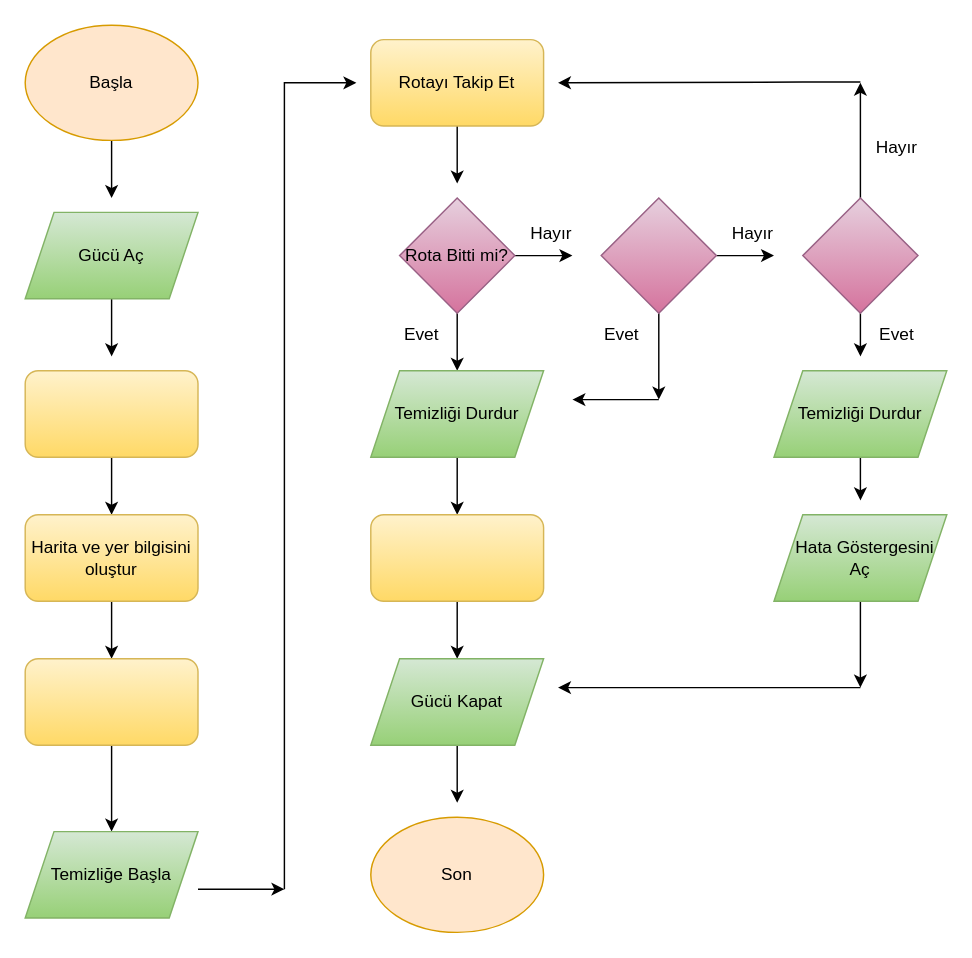
Image size: 972x958. Some labels were removed from this diagram. The centre of each missing label's shape, as x and y in pixels:
Etrafı Tara: the point at 111,413
Hazne Dolu mu?: the point at 859,255
Yolu Planla: the point at 111,701
Zayıf Batarya: the point at 658,255
Şarj Olmaya Dön: the point at 456,557
